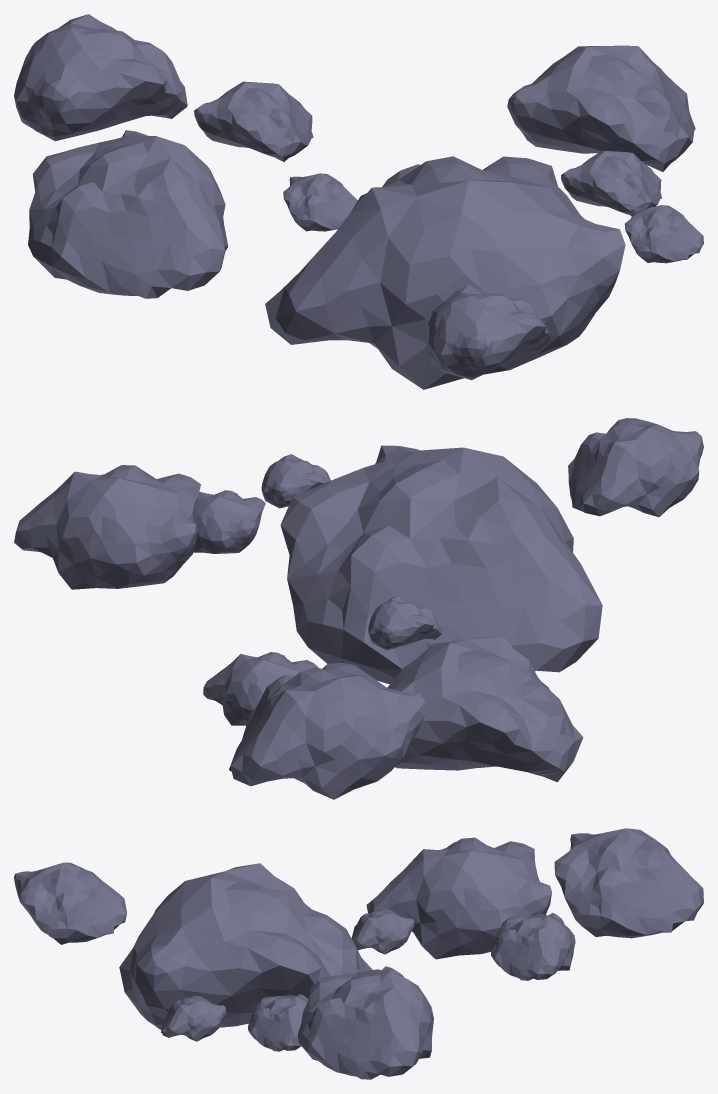
The model's file is stones.dae.
The picture shows the model from 3 angles, top to bottom: view 1: azimuth 30°, elevation 25°; view 2: azimuth 150°, elevation 25°; view 3: azimuth 270°, elevation 25°; orthographic projection. The views are drawn at different scales.
Visible parts, largest first — view 1: Icosphere.012, Icosphere.009, Icosphere.008, Icosphere.013, Icosphere.016, Icosphere.010, Icosphere.017, Icosphere.018, Icosphere.011; view 2: Icosphere.012, Icosphere.009, Icosphere.013, Icosphere.008, Icosphere.016, Icosphere.010, Icosphere.017, Icosphere.011, Icosphere.018; view 3: Icosphere.012, Icosphere.009, Icosphere.013, Icosphere.008, Icosphere.016, Icosphere.010, Icosphere.017, Icosphere.018, Icosphere.011.
Boxes of the visible parts, <box> form: Icosphere.012: <box>265,156,625,389</box>; Icosphere.009: <box>28,130,228,298</box>; Icosphere.008: <box>507,45,695,171</box>; Icosphere.013: <box>14,14,187,141</box>; Icosphere.016: <box>426,284,551,380</box>; Icosphere.010: <box>194,81,313,161</box>; Icosphere.017: <box>561,150,661,215</box>; Icosphere.018: <box>624,205,703,263</box>; Icosphere.011: <box>283,173,357,231</box>; Icosphere.012: <box>280,445,602,684</box>; Icosphere.009: <box>387,636,583,782</box>; Icosphere.013: <box>229,662,425,799</box>; Icosphere.008: <box>14,465,200,589</box>; Icosphere.016: <box>568,418,703,517</box>; Icosphere.010: <box>203,652,318,725</box>; Icosphere.017: <box>193,490,265,553</box>; Icosphere.011: <box>368,596,441,650</box>; Icosphere.018: <box>261,454,330,508</box>; Icosphere.012: <box>119,863,372,1030</box>; Icosphere.009: <box>366,837,551,959</box>; Icosphere.013: <box>554,828,703,938</box>; Icosphere.008: <box>297,966,433,1079</box>; Icosphere.016: <box>14,862,126,944</box>; Icosphere.010: <box>490,913,575,980</box>; Icosphere.017: <box>248,994,308,1051</box>; Icosphere.018: <box>161,996,226,1041</box>; Icosphere.011: <box>351,908,414,954</box>.
Bounding box in the file's own units: 2.57 × 3.21 × 0.7261.
